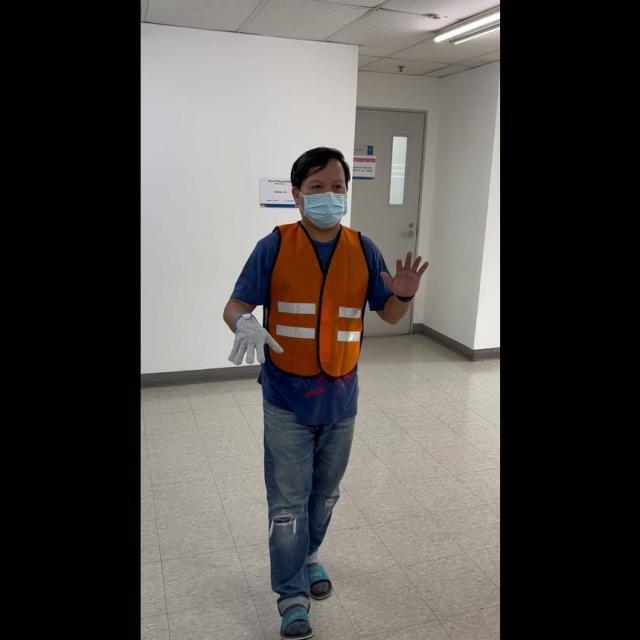bare_hand: (380, 246, 427, 298)
gloved_hand: (225, 309, 283, 366)
